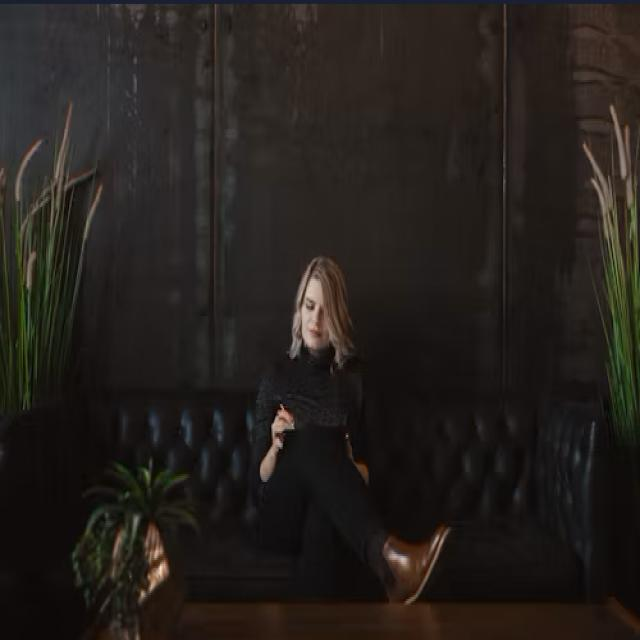Edited images: (239, 233, 457, 625)
